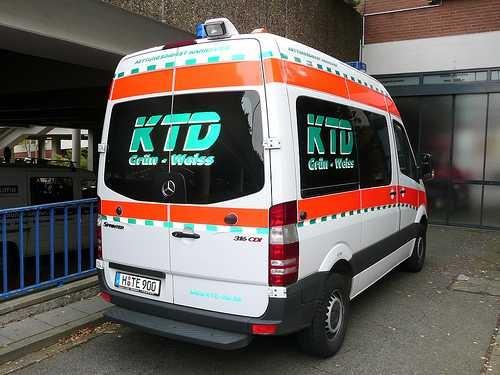car: (94, 16, 434, 357)
